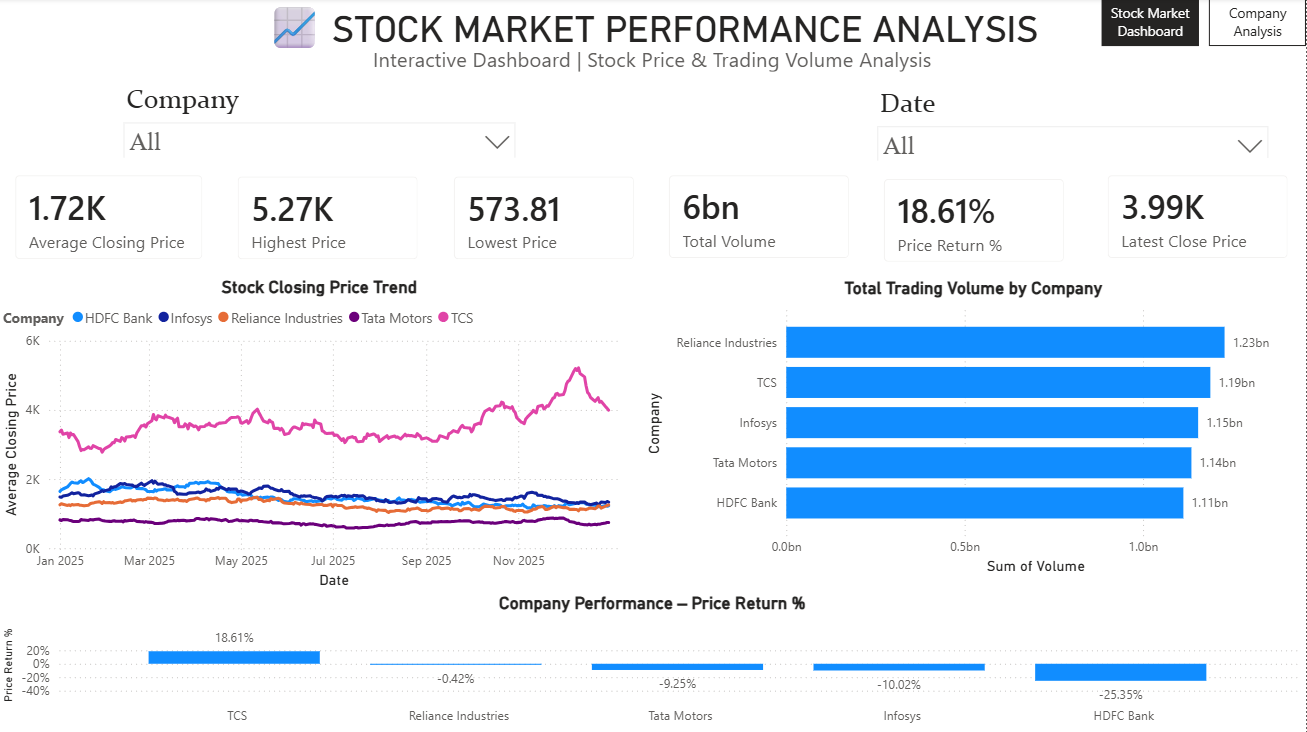

The page's visual inventory and layout, read from the dashboard file:
{"tool":"powerbi","page":{"name":"Stock Market Overview","canvas":[1280,720],"ordinal":0},"visuals":[{"type":"textbox","box":[150,173,300,300],"z":0},{"type":"cardVisual","fields":{"Data":["StockData.Average Closing Price"]},"box":[0,156.5,217.7,116.2],"z":1000},{"type":"lineChart","title":"Stock Closing Price Trend","fields":{"Series":["StockData.Company"],"Y":["StockData.Average Closing Price"],"Category":["DateTable.Date"]},"box":[0,272.2,628.6,309.3],"z":2000},{"type":"clusteredBarChart","title":"Total Trading Volume by Company","fields":{"Category":["StockData.Company"],"Y":["Sum(StockData.Volume)"]},"box":[628.6,273.7,651.4,295.1],"z":3000},{"type":"slicer","fields":{"Values":["StockData.Company"]},"box":[112.5,77,403.5,79.5],"z":4000},{"type":"slicer","fields":{"Values":["StockData.Date"]},"box":[850,81.2,402.5,78.8],"z":5000},{"type":"cardVisual","fields":{"Data":["StockData.Lowest Price"]},"box":[429,158.2,211,115.5],"z":6000},{"type":"cardVisual","fields":{"Data":["StockData.Highest Price"]},"box":[218.1,158.2,211,115.5],"z":7000},{"type":"cardVisual","fields":{"Data":["StockData.Total Volume"]},"box":[640,156.8,211,115.5],"z":8000},{"type":"cardVisual","fields":{"Data":["StockData.Price Return %"]},"box":[849.5,159.6,211,115.5],"z":9000},{"type":"cardVisual","fields":{"Data":["StockData.Latest Close Price"]},"box":[1069,156.8,211,115.5],"z":10000},{"type":"clusteredColumnChart","title":"Company Performance – Price Return %","fields":{"Category":["StockData.Company"],"Y":["StockData.Price Return %"]},"box":[0,581.6,1280,138.3],"z":11000},{"type":"textbox","title":"📈 STOCK MARKET PERFORMANCE ANALYSIS","box":[0,0,1280,77.5],"z":12000},{"type":"pageNavigator","box":[1079.8,0,200.5,47.7],"z":13000}]}

Visuals, with their boxes in screenshot pixels (x1, y1, x2, y2), scaled from the page's 1280x720 canvas onto the 1307x732 screenshot:
textbox: bbox=[153, 176, 459, 481]
cardVisual - StockData.Average Closing Price: bbox=[0, 159, 222, 277]
"Stock Closing Price Trend" lineChart: bbox=[0, 277, 642, 591]
"Total Trading Volume by Company" clusteredBarChart: bbox=[642, 278, 1306, 578]
slicer - StockData.Company: bbox=[115, 78, 527, 159]
slicer - StockData.Date: bbox=[868, 83, 1279, 163]
cardVisual - StockData.Lowest Price: bbox=[438, 161, 654, 278]
cardVisual - StockData.Highest Price: bbox=[223, 161, 438, 278]
cardVisual - StockData.Total Volume: bbox=[654, 159, 869, 277]
cardVisual - StockData.Price Return %: bbox=[867, 162, 1083, 280]
cardVisual - StockData.Latest Close Price: bbox=[1092, 159, 1306, 277]
"Company Performance – Price Return %" clusteredColumnChart: bbox=[0, 591, 1306, 731]
"📈 STOCK MARKET PERFORMANCE ANALYSIS" textbox: bbox=[0, 0, 1306, 79]
pageNavigator: bbox=[1103, 0, 1306, 48]
